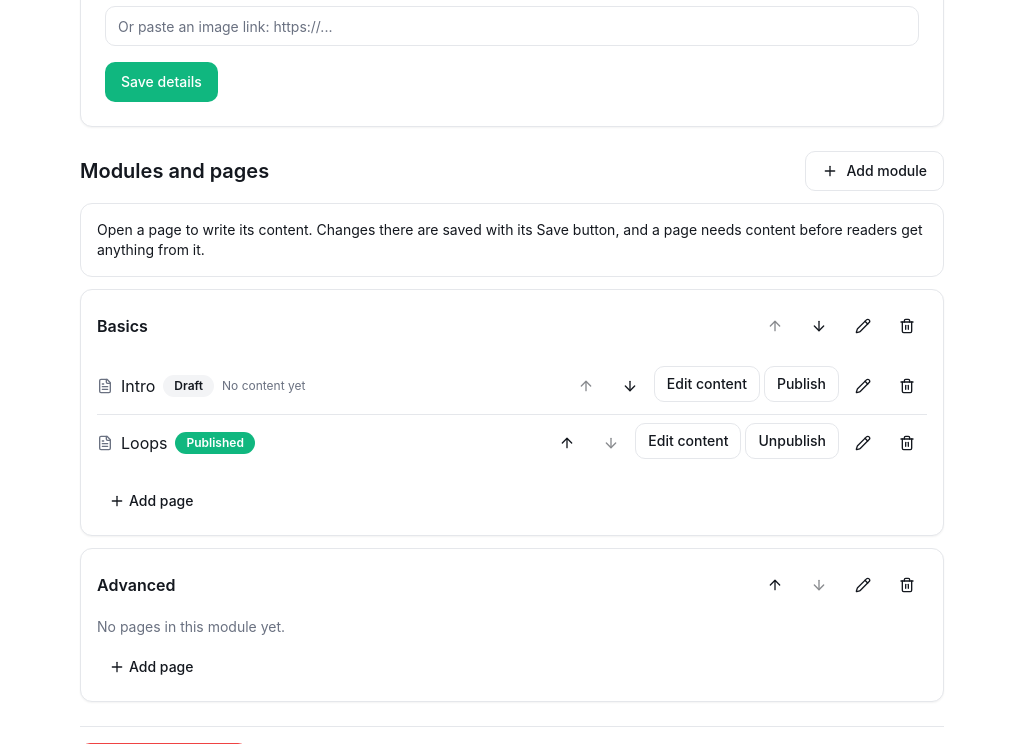
Test case: pages › publishing an EMPTY page warns that readers get no meaningful body, and only publishes on confirm
(page scrolled)
Click the button "Publish". click: (801, 384)
box: x1=764 y1=366 x2=839 y2=402
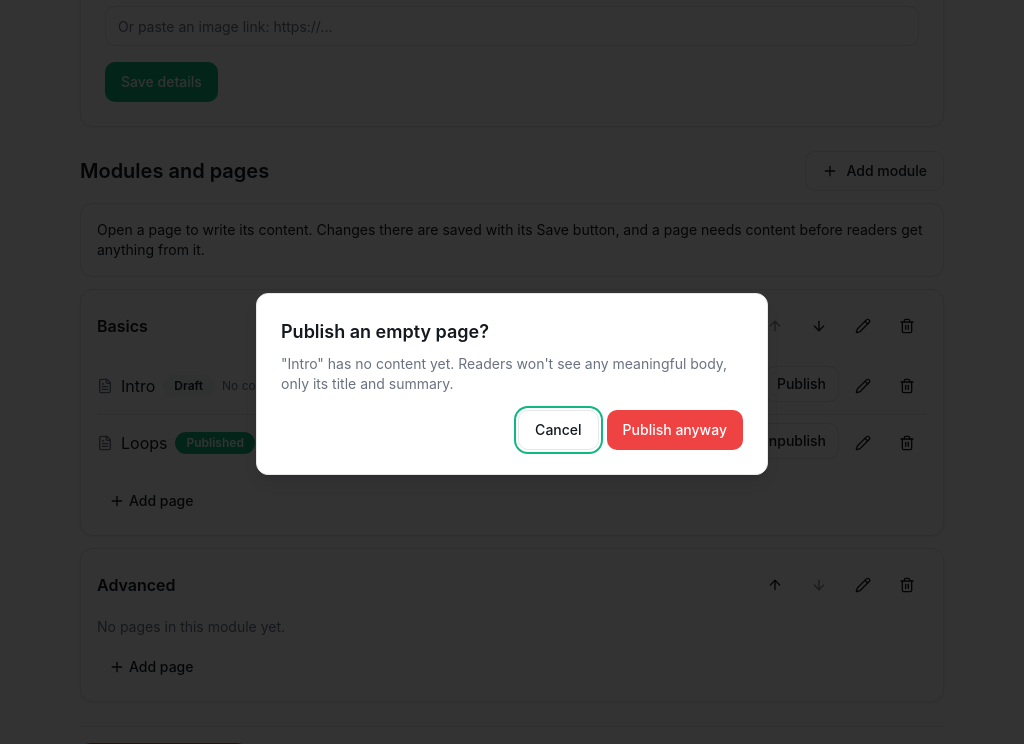
Click the button "Cancel". click: (558, 430)
box: x1=518 y1=410 x2=599 y2=450
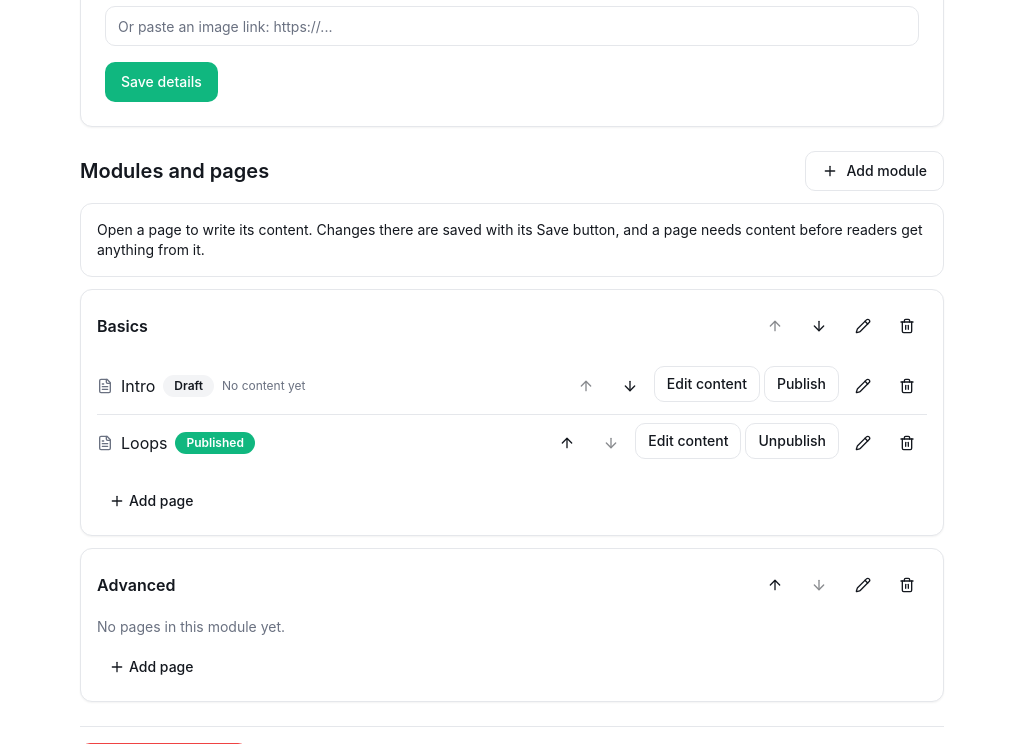
Click the button "Publish". click: (801, 384)
box: x1=764 y1=366 x2=839 y2=402
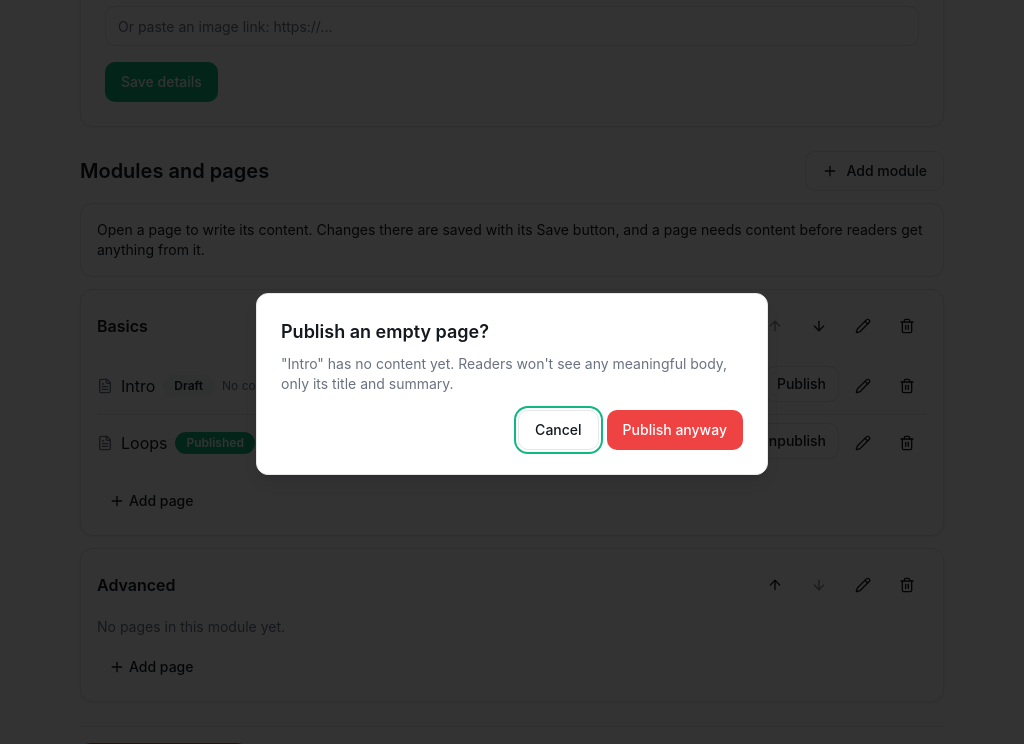
Click the button "Publish anyway". click: (675, 430)
box: x1=607 y1=410 x2=743 y2=450
(page scrolled)
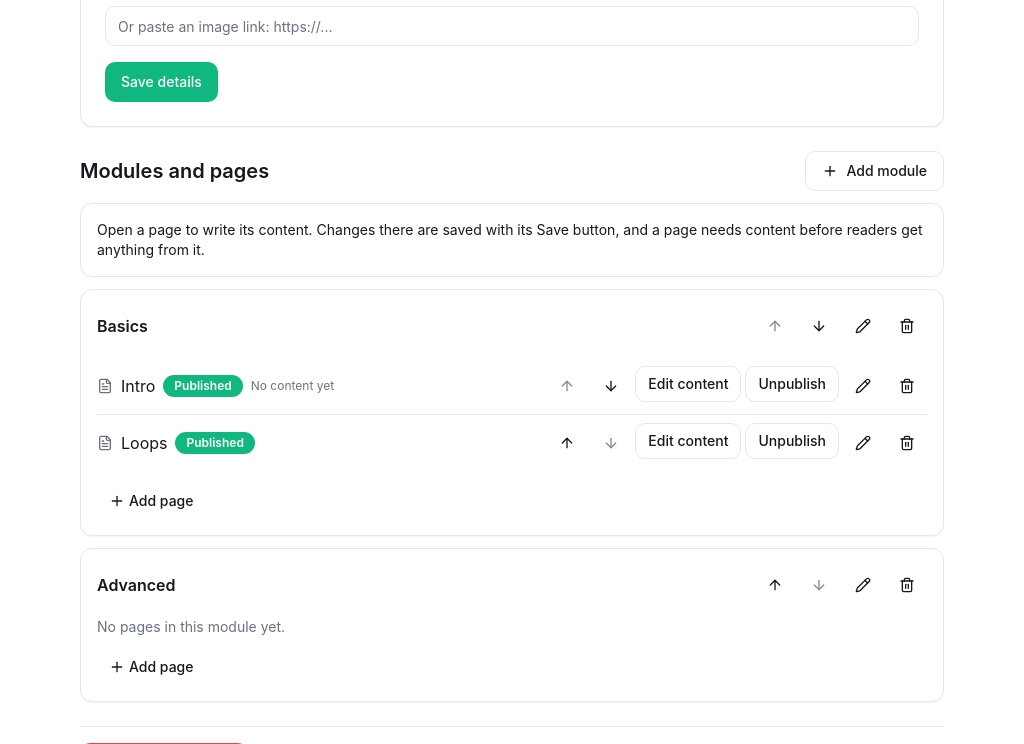
Result: the text with test id "status-badge" reads "Published" at x1=174 y1=378 x2=232 y2=393
